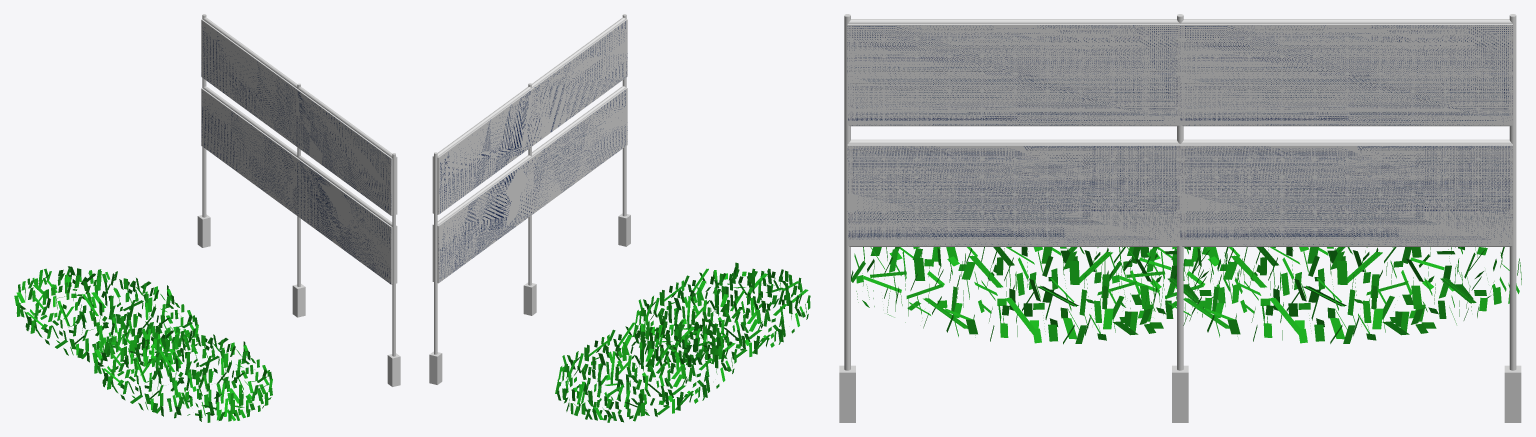
Rendered from verticalSolarGrass2.glb.
The picture shows the model from 3 angles, left to right: view 1: azimuth 30°, elevation 25°; view 2: azimuth 150°, elevation 25°; view 3: azimuth 270°, elevation 25°; orthographic projection. The views are drawn at different scales.
Parts seen in each view (by area): view 1: Trava Kolosok.004, Trava Kolosok.001, Panel.004, Panel.003, Panel.002, Panel.005, Cylinder.001, Cube.002, Cube.001, Cube.010, Cylinder.012, Cylinder.010 (+3 smaller); view 2: Trava Kolosok.004, Trava Kolosok.001, Panel.002, Panel.005, Panel.004, Panel.003, Cylinder.005, Cube.010, Cube.002, Cylinder.008, Cylinder.010, Cylinder.012 (+3 smaller); view 3: Panel.008, Panel.009, Panel.007, Panel.006, Trava Kolosok.004, Trava Kolosok.001, Cylinder.005, Cylinder.003, Cylinder.008, Cylinder.001, Cylinder.010, Cylinder.012 (+6 smaller).
Part boxes in pixels (x1,y1,x2,y2): Trava Kolosok.004: (14,266,198,369); Trava Kolosok.001: (92,324,272,422); Panel.004: (296,89,392,215); Panel.003: (296,157,392,284); Panel.002: (201,19,297,145); Panel.005: (201,88,297,214); Cylinder.001: (392,153,395,356); Cube.002: (197,214,210,247); Cube.001: (387,353,400,386); Cube.010: (292,284,305,317); Cylinder.012: (298,87,392,157); Cylinder.010: (203,17,297,88); Trava Kolosok.004: (555,316,737,422); Trava Kolosok.001: (633,262,810,365); Panel.002: (437,88,533,214); Panel.005: (437,157,533,283); Panel.004: (532,19,627,145); Panel.003: (532,87,627,213); Cylinder.005: (434,152,437,354); Cube.010: (523,282,536,315); Cube.002: (429,351,442,384); Cylinder.008: (437,155,531,225); Cylinder.010: (437,87,531,156); Cylinder.012: (532,17,625,87); Panel.008: (847,24,1180,125); Panel.009: (847,144,1180,245); Panel.007: (1180,24,1512,125); Panel.006: (1180,144,1512,245); Trava Kolosok.004: (1101,247,1521,343); Trava Kolosok.001: (851,247,1244,344); Cylinder.005: (1509,14,1516,370); Cylinder.003: (848,139,1179,144); Cylinder.008: (1181,139,1512,144); Cylinder.001: (844,14,850,370); Cylinder.010: (1180,19,1512,23); Cylinder.012: (848,19,1179,23).
Size of the model in its own units: 4.17 by 4.02 by 6.15.
18 materials, 8 textured.
